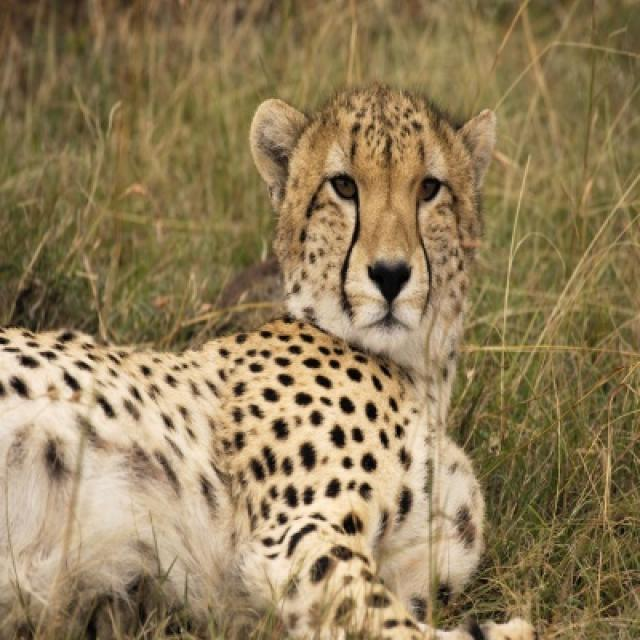Cheetah: (0, 86, 544, 638)
